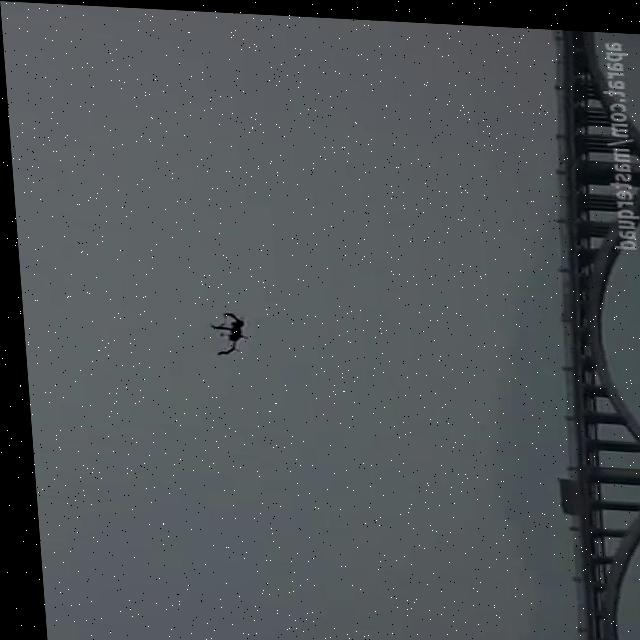drone: (197, 302, 248, 359)
